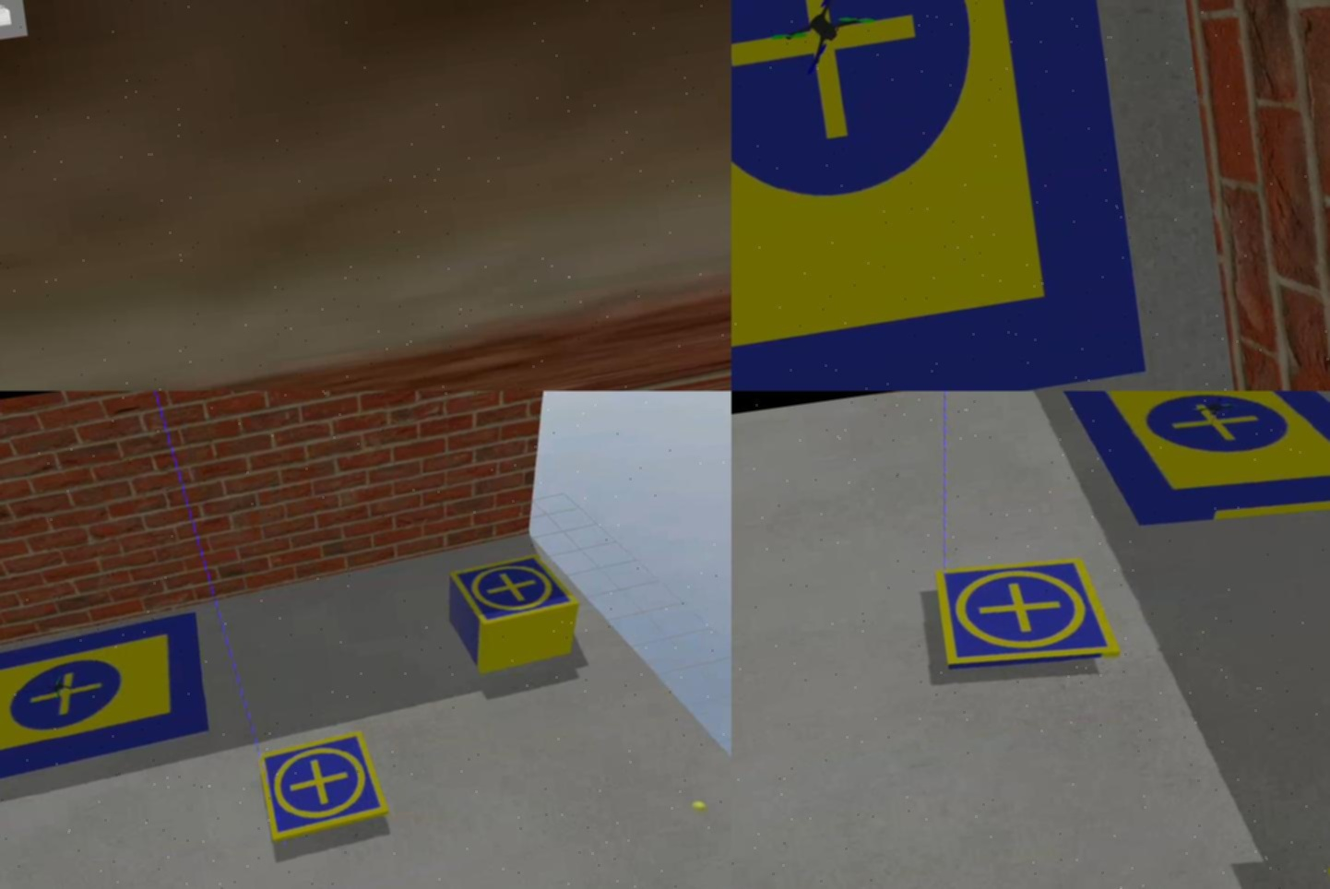large_base: (731, 1, 1152, 391), (1056, 391, 1330, 557), (1, 615, 220, 805)
small_base: (932, 550, 1123, 682), (256, 725, 394, 846), (453, 553, 585, 632)
